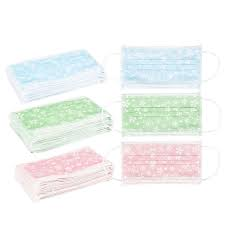mask: (119, 45, 219, 87)
